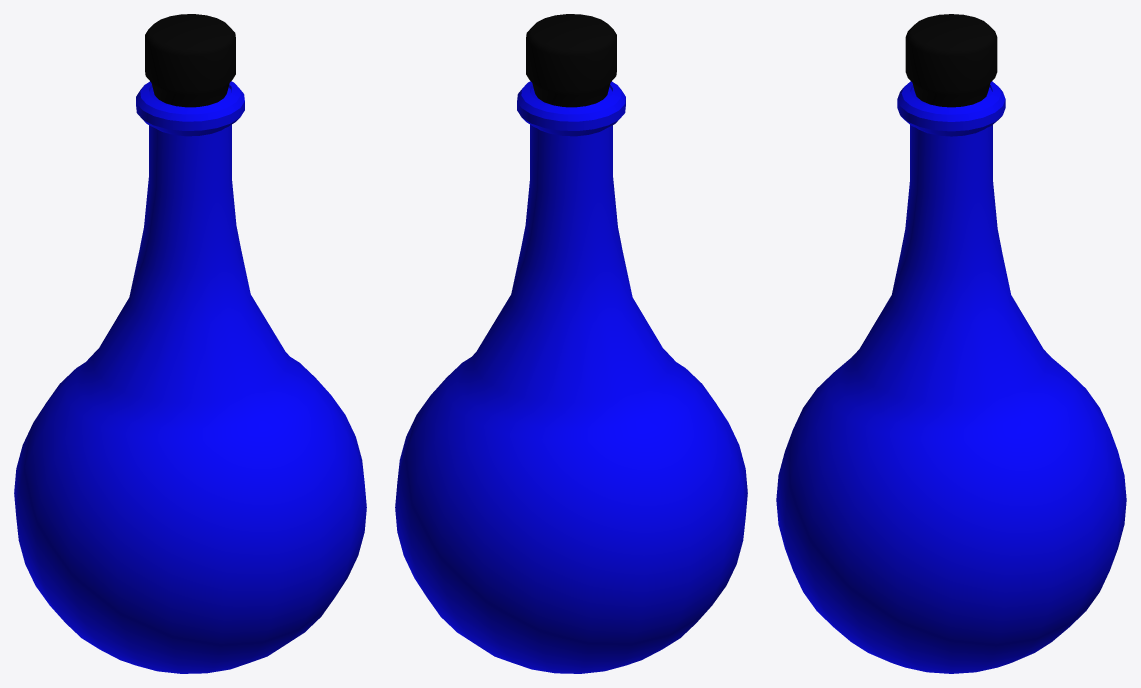
Rendered from blue.glb.
The picture shows the model from 3 angles, left to right: view 1: azimuth 30°, elevation 25°; view 2: azimuth 150°, elevation 25°; view 3: azimuth 270°, elevation 25°; orthographic projection.
Visible parts, largest first — view 1: pSphere1, pCylinder1; view 2: pSphere1, pCylinder1; view 3: pSphere1, pCylinder1.
Part boxes in pixels (x1=…): pSphere1: x1=14, y1=81, x2=366, y2=673; pCylinder1: x1=145, y1=14, x2=235, y2=107; pSphere1: x1=395, y1=81, x2=747, y2=673; pCylinder1: x1=526, y1=14, x2=616, y2=107; pSphere1: x1=776, y1=81, x2=1126, y2=673; pCylinder1: x1=905, y1=14, x2=997, y2=107.
Size of the model in its own units: 0.0644 by 0.1249 by 0.0633.
